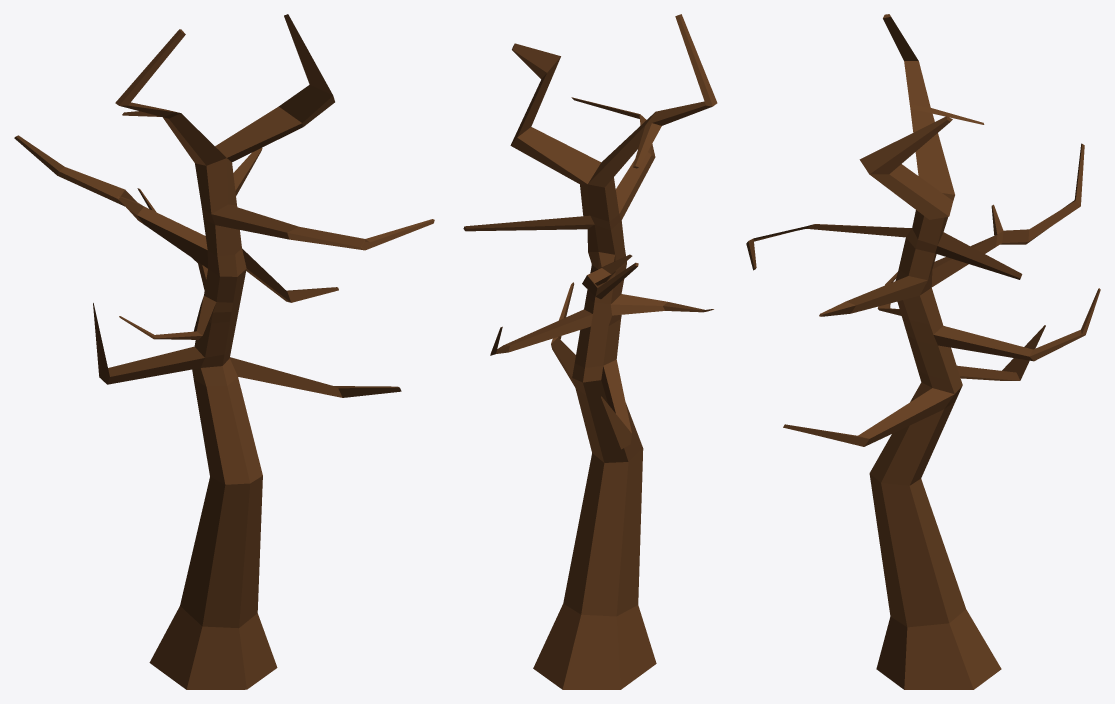
Rendered from Tree.fbx.
3 views of the same model, side by side, from view 1: azimuth 30°, elevation 25°; view 2: azimuth 150°, elevation 25°; view 3: azimuth 270°, elevation 25° (orthographic). The views are drawn at different scales.
Visible parts, largest first — view 1: Cube; view 2: Cube; view 3: Cube.
Part boxes in pixels (left/top/right/bottom): Cube: left=14, top=14, right=434, bottom=689; Cube: left=463, top=14, right=717, bottom=689; Cube: left=746, top=14, right=1100, bottom=689.
Size of the model in its own units: 773 by 2022 by 1035.
